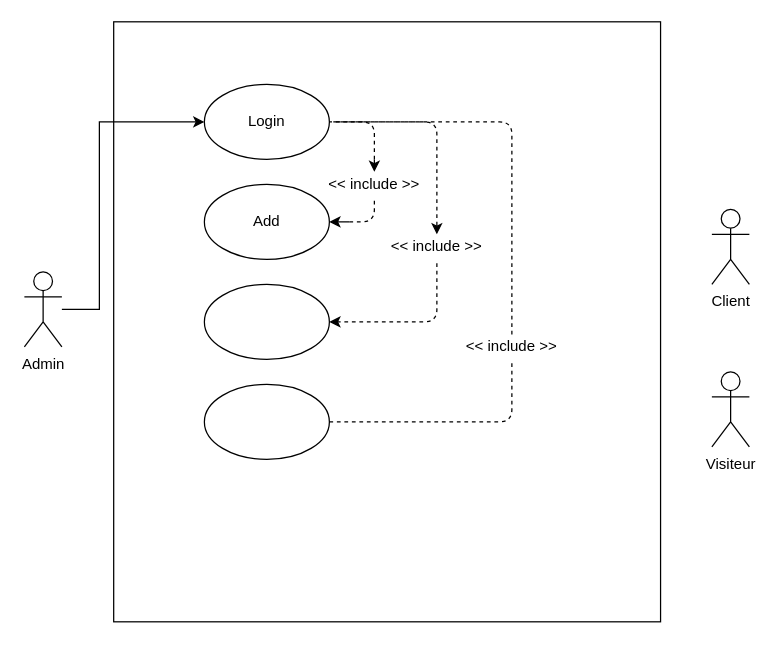
Image size: 776x645. Some labels were removed from this diagram. The box of each missing label's shape, as (x1, y1, x2, y2) in pixels:
Delete: (203, 383, 329, 459)
Edit: (203, 283, 329, 359)
